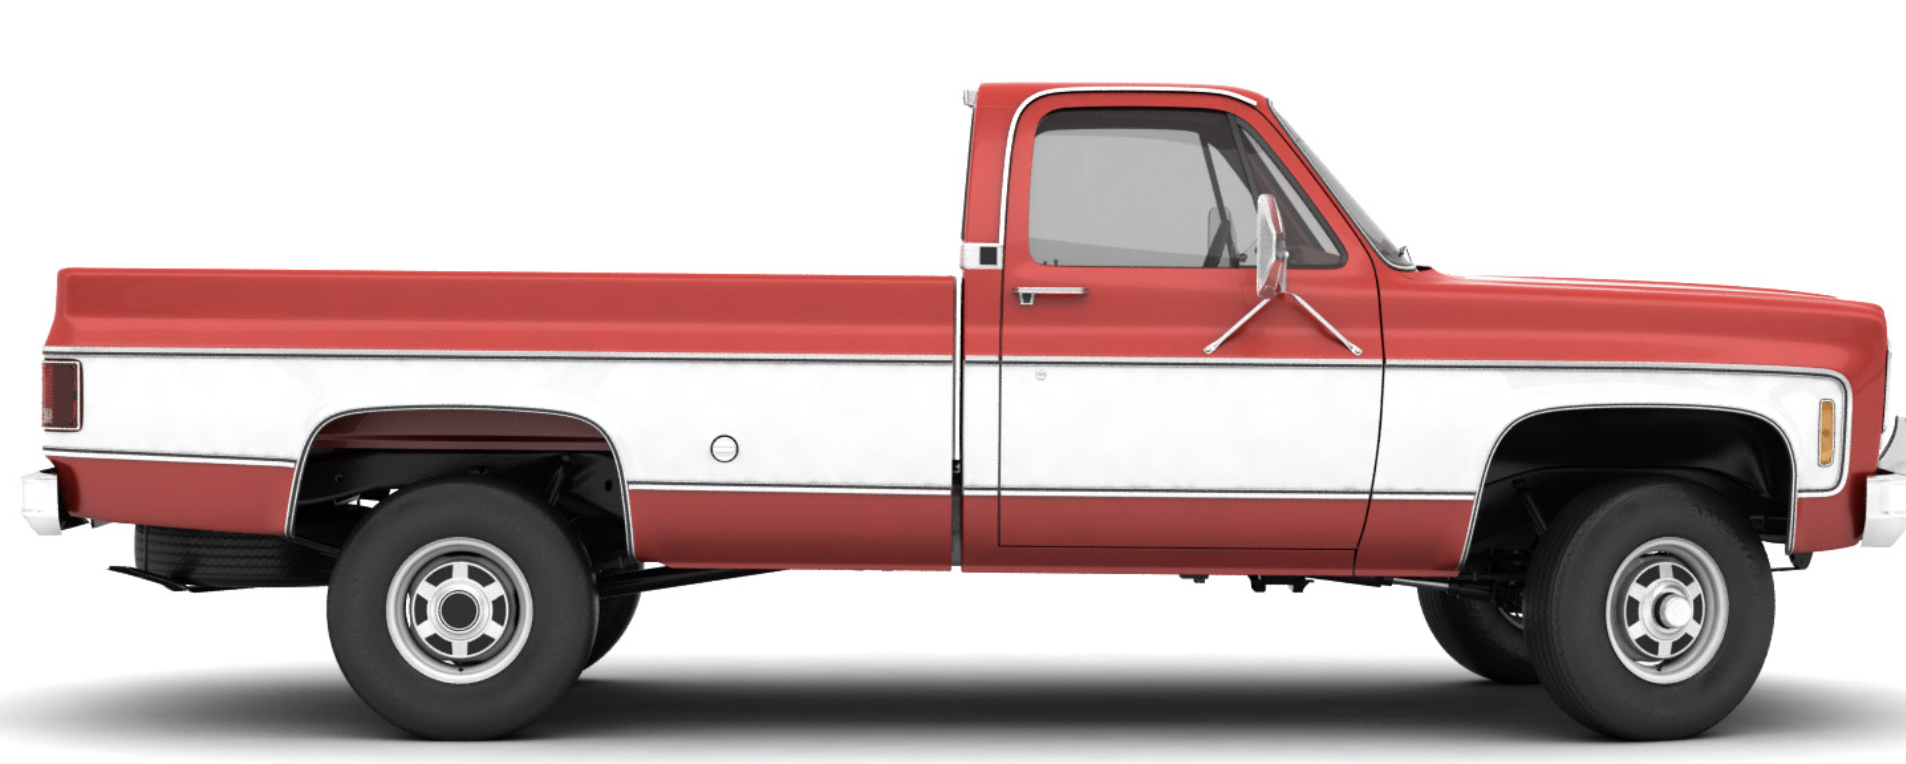hatch: (701, 424, 748, 471)
